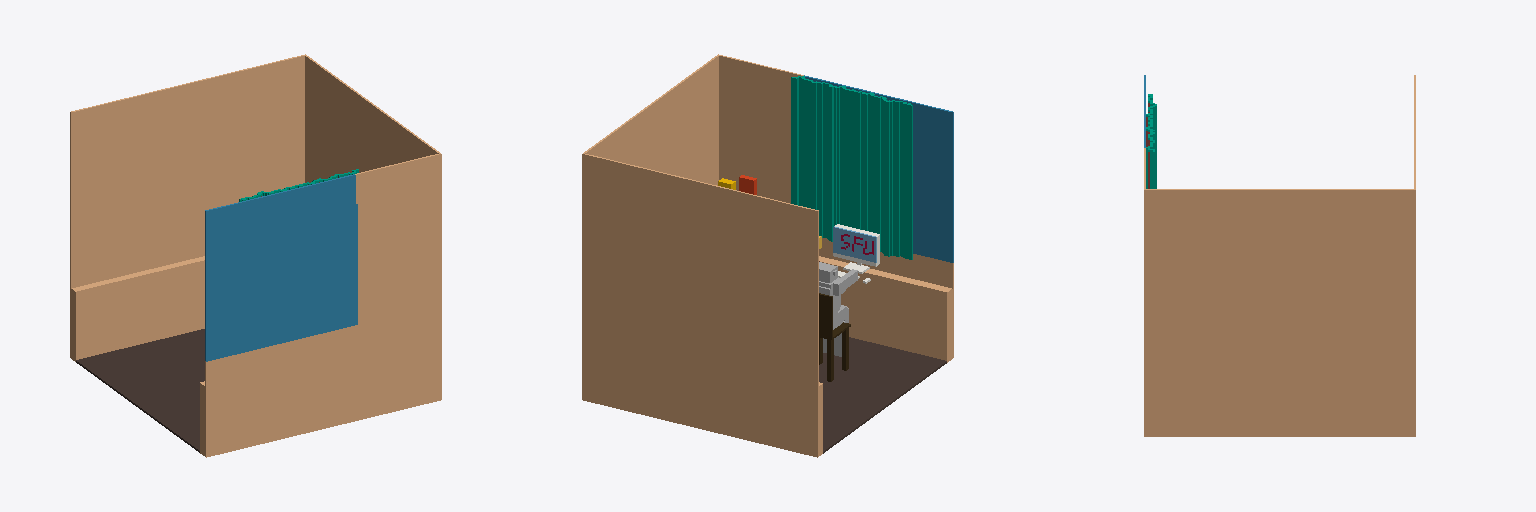
3 views of the same model, side by side, from view 1: azimuth 30°, elevation 25°; view 2: azimuth 150°, elevation 25°; view 3: azimuth 270°, elevation 25° (orthographic).
Parts seen in each view (by area): view 1: object 1; view 2: object 1; view 3: object 1.
Boxes of the visible parts, box(x1,y1,x2,y2) form: object 1: box(70, 54, 441, 457); object 1: box(582, 54, 953, 457); object 1: box(1144, 75, 1415, 436).
Bounding box in the file's own units: 12.6 × 12.6 × 12.6.
Materials: 1 (1 with a texture image).